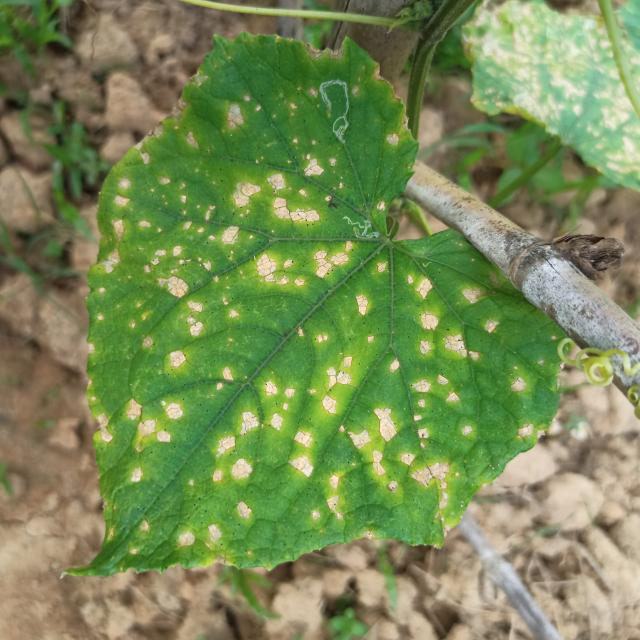disease_cucumber: (91, 72, 517, 550)
